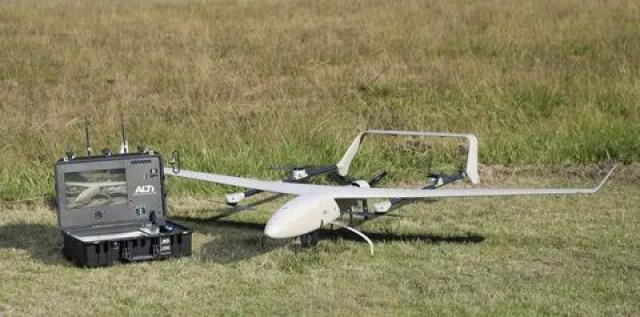military drone: (162, 130, 617, 256)
